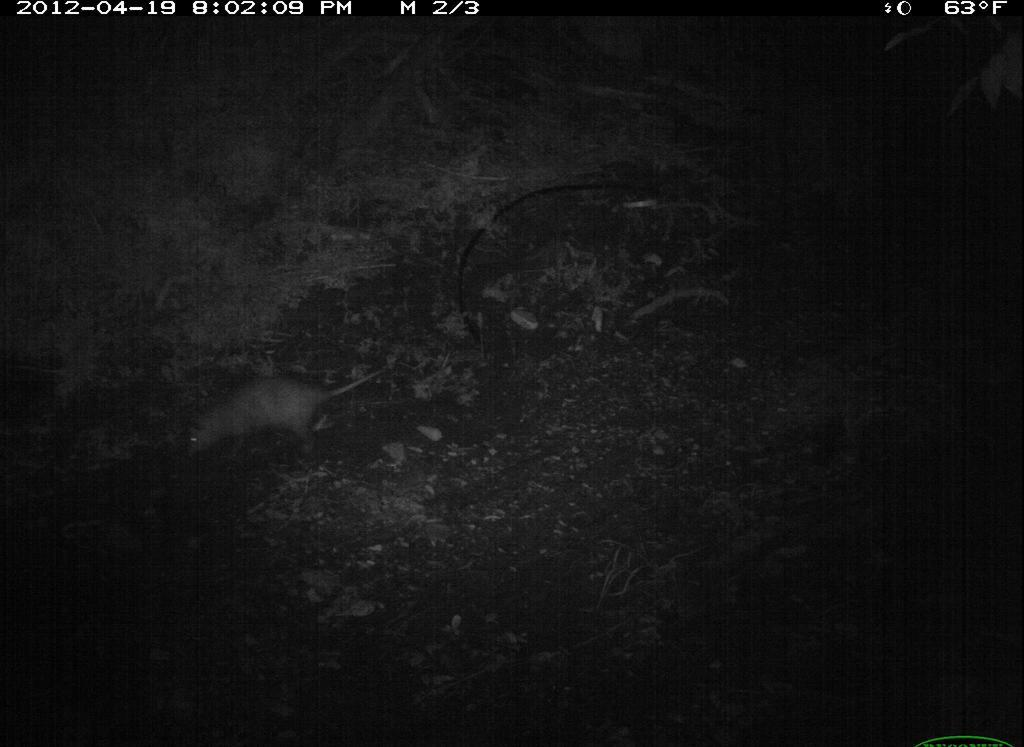opossum: (168, 359, 434, 477)
